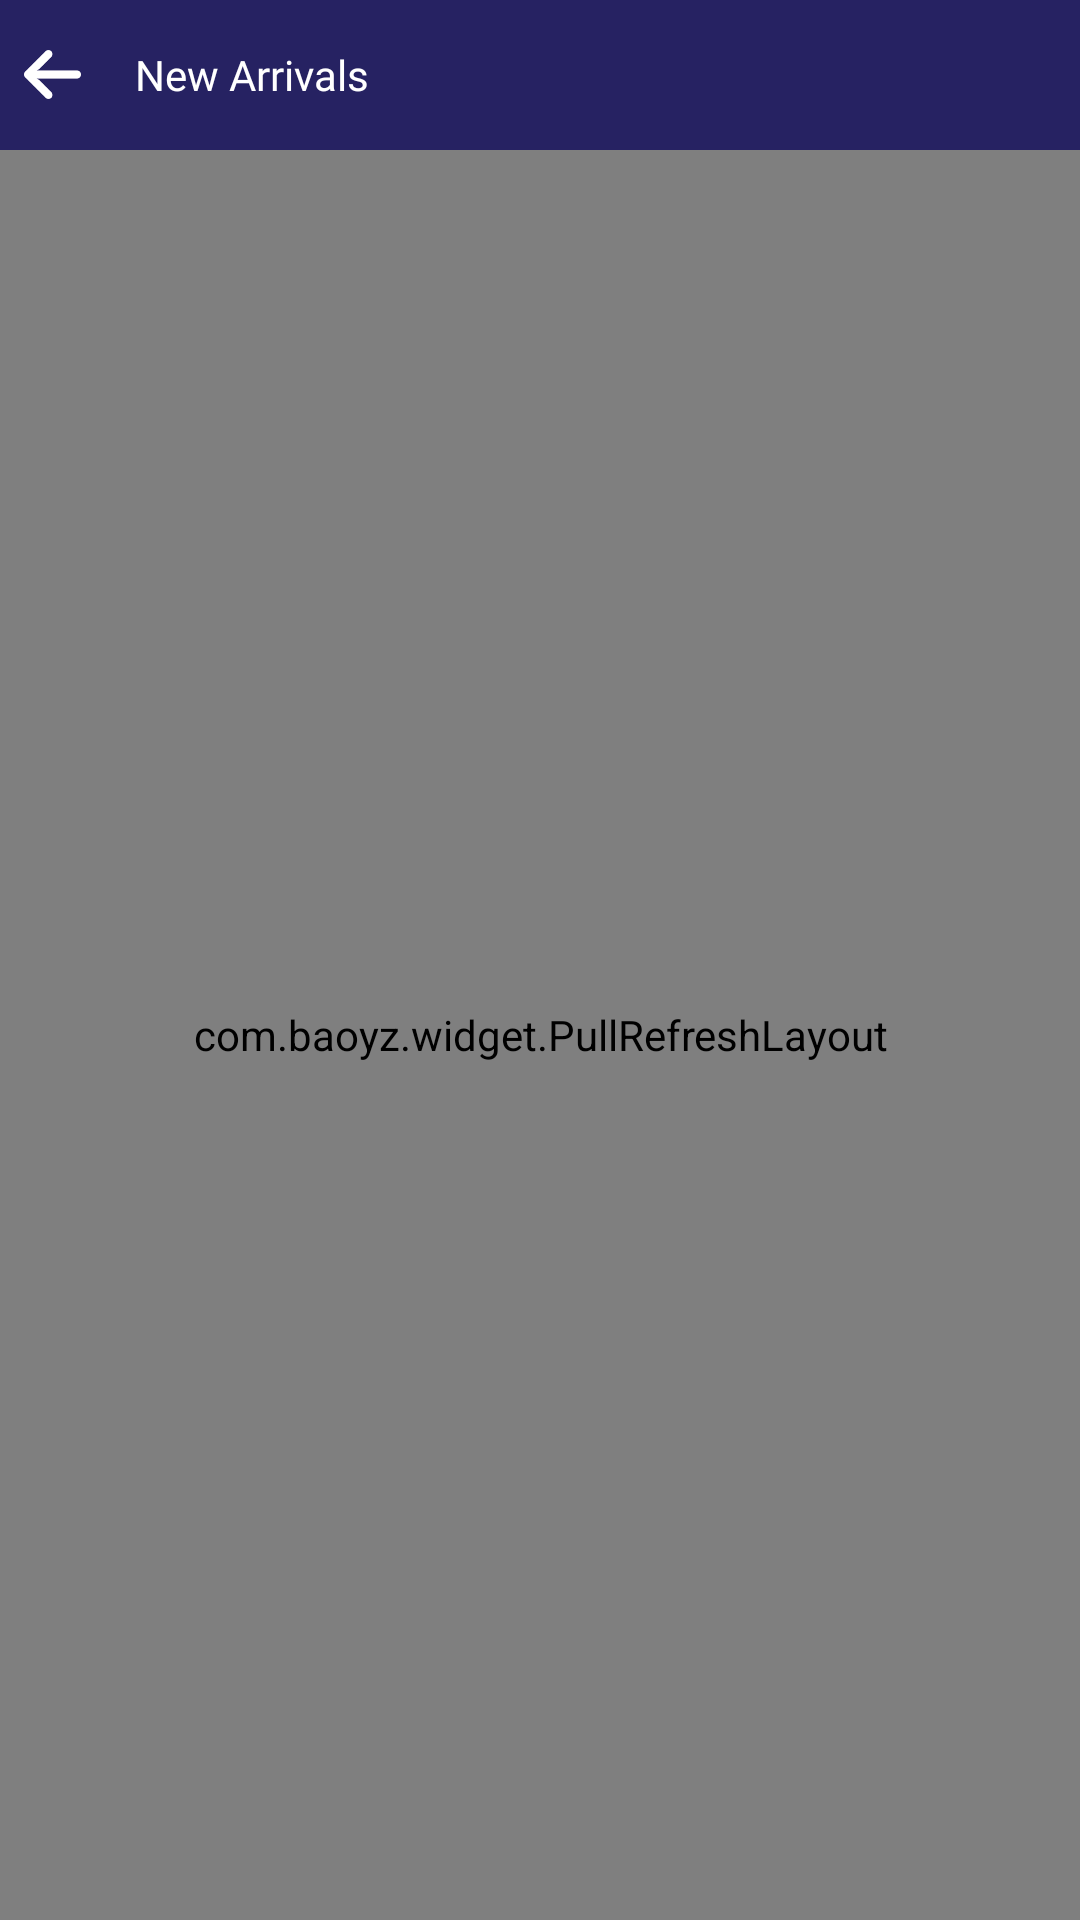

Point at icon controls on the screen. Image size 1080px×1920px, points as (x,y).
back: (52,74)
